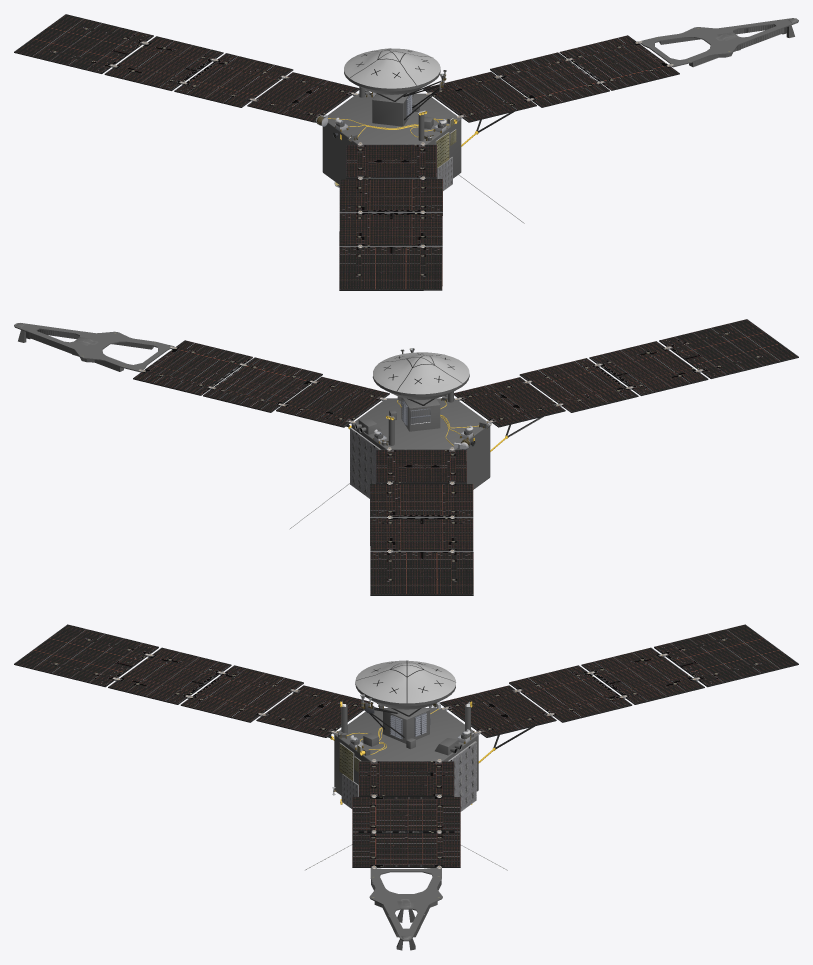
File: juno.glb
The picture shows the model from 3 angles, top to bottom: view 1: azimuth 30°, elevation 25°; view 2: azimuth 150°, elevation 25°; view 3: azimuth 270°, elevation 25°; orthographic projection. The views are drawn at different scales.
Parts seen in each view (by area): view 1: shiny_panels, _body, dish_top, solar_panels, black_krinkle, engine_cover; view 2: shiny_panels, _body, dish_top, solar_panels, engine_cover, black_krinkle; view 3: shiny_panels, _body, engine_cover, dish_top, solar_panels, black_krinkle.
Boxes of the visible parts, bbox=[...] form: shiny_panels: bbox=[14, 14, 679, 289]; _body: bbox=[322, 70, 461, 186]; dish_top: bbox=[344, 48, 440, 88]; solar_panels: bbox=[640, 18, 798, 67]; black_krinkle: bbox=[14, 35, 679, 290]; engine_cover: bbox=[110, 41, 673, 248]; shiny_panels: bbox=[133, 319, 798, 594]; _body: bbox=[351, 374, 490, 489]; dish_top: bbox=[373, 352, 469, 394]; solar_panels: bbox=[14, 323, 173, 371]; engine_cover: bbox=[139, 346, 702, 552]; black_krinkle: bbox=[133, 340, 798, 595]; shiny_panels: bbox=[14, 624, 798, 866]; _body: bbox=[334, 682, 478, 804]; engine_cover: bbox=[112, 653, 699, 870]; dish_top: bbox=[355, 660, 455, 703]; solar_panels: bbox=[369, 868, 442, 941]; black_krinkle: bbox=[14, 647, 798, 867].
Bounding box in the file's own units: 17.65 × 4.26 × 18.54.
12 materials, 4 textured.
